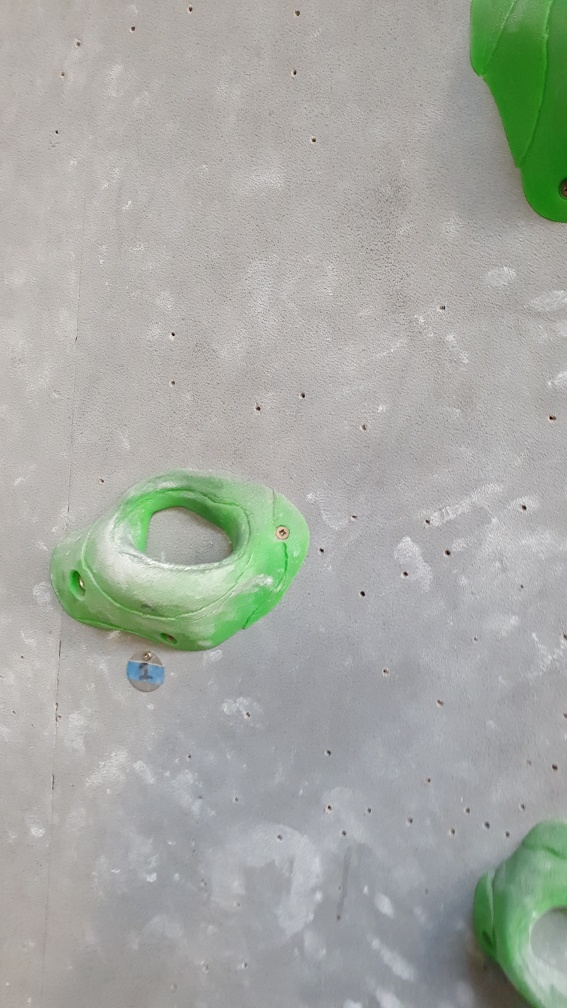Hand Start: (124, 651, 169, 694)
Pocket: (52, 464, 316, 656), (475, 816, 567, 1006)
